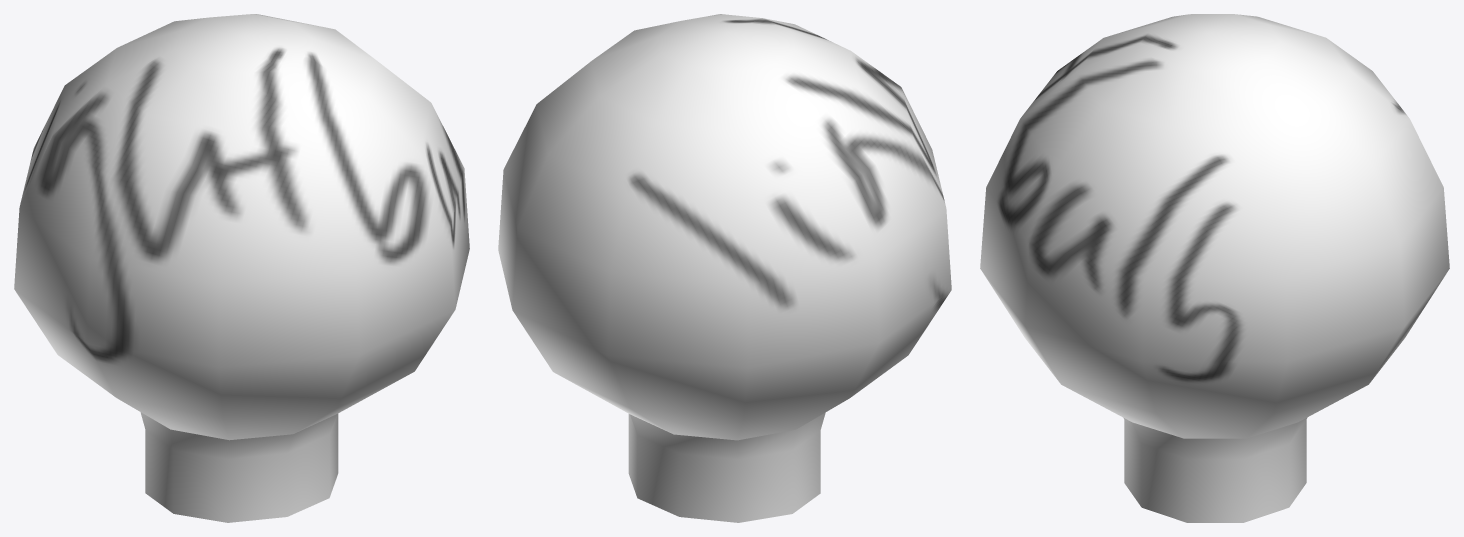
The model's file is SM_Lightbulb.fbx.
3 renders of one model, left to right at view 1: azimuth 30°, elevation 25°; view 2: azimuth 150°, elevation 25°; view 3: azimuth 270°, elevation 25°, orthographic.
Visible parts, largest first — view 1: SM_LightBulb; view 2: SM_LightBulb; view 3: SM_LightBulb.
Boxes of the visible parts, left/top/right/bottom form: SM_LightBulb: left=14, top=14, right=469, bottom=522; SM_LightBulb: left=498, top=14, right=951, bottom=522; SM_LightBulb: left=980, top=14, right=1449, bottom=522.
Bounding box in the file's own units: 20.18 × 22.68 × 21.46.
